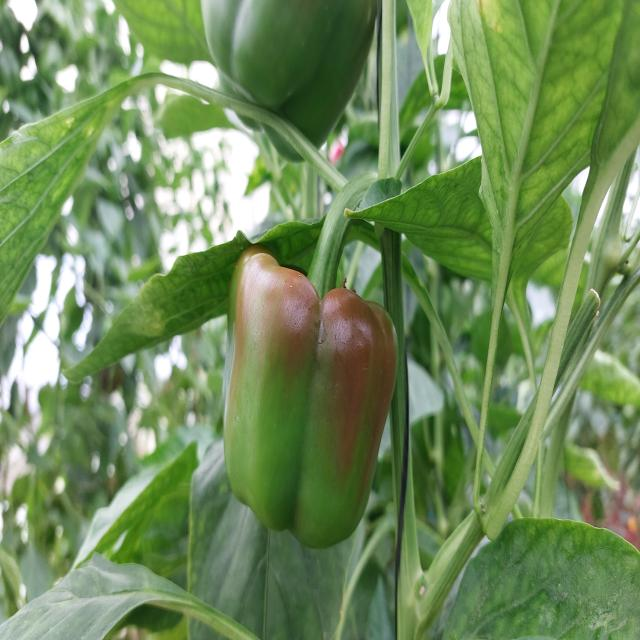BrownishRed--Can-be-Harvested: (236, 234, 402, 546)
Green--Not-ready-to-harvest: (201, 0, 389, 140)
